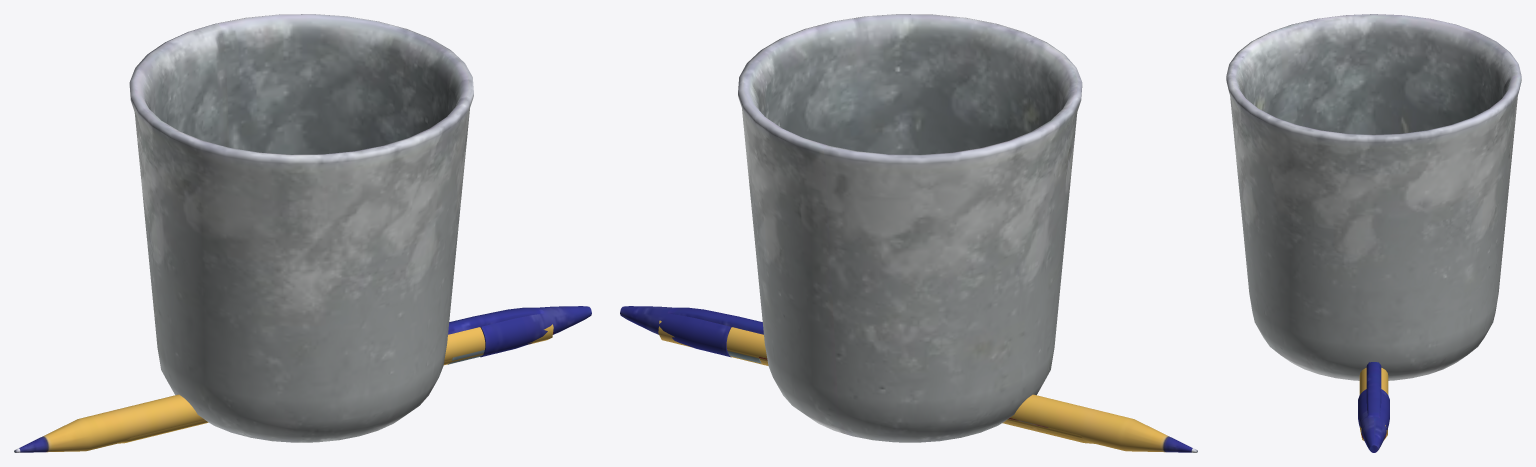
File: stationery.glb
3 renders of one model, left to right at view 1: azimuth 30°, elevation 25°; view 2: azimuth 150°, elevation 25°; view 3: azimuth 270°, elevation 25°, orthographic. The views are drawn at different scales.
Visible parts, largest first — view 1: stationery_supplies_pencilcup, stationery_supplies_pen_blue, stationery_supplies_pen_red; view 2: stationery_supplies_pencilcup, stationery_supplies_pen_blue, stationery_supplies_pen_red; view 3: stationery_supplies_pencilcup, stationery_supplies_pen_blue.
Boxes of the visible parts, x1,y1,x2,y2 form: stationery_supplies_pencilcup: (129, 14, 473, 442); stationery_supplies_pen_blue: (14, 306, 591, 452); stationery_supplies_pen_red: (118, 324, 553, 443); stationery_supplies_pencilcup: (738, 14, 1082, 442); stationery_supplies_pen_blue: (620, 306, 1197, 452); stationery_supplies_pen_red: (658, 320, 1094, 443); stationery_supplies_pencilcup: (1226, 14, 1521, 380); stationery_supplies_pen_blue: (1358, 362, 1389, 452).
Size of the model in its own units: 0.161 by 0.0839 by 0.0837.
1 material, 1 textured.
